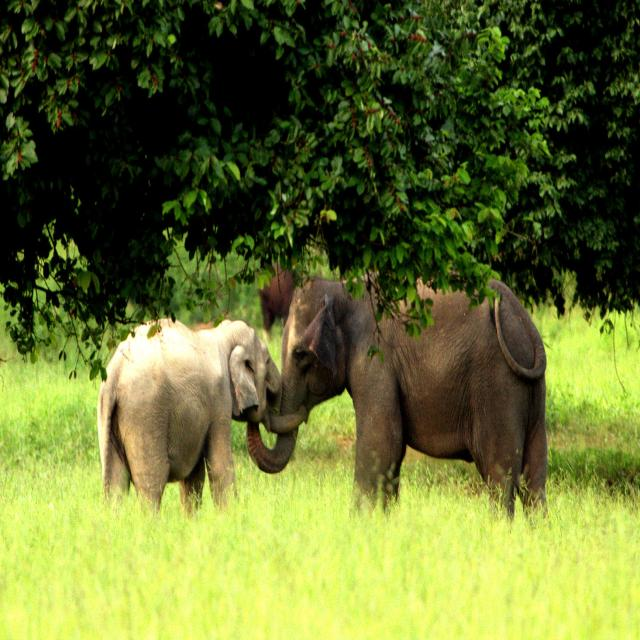Elephant: (282, 255, 562, 563), (76, 297, 282, 565)
